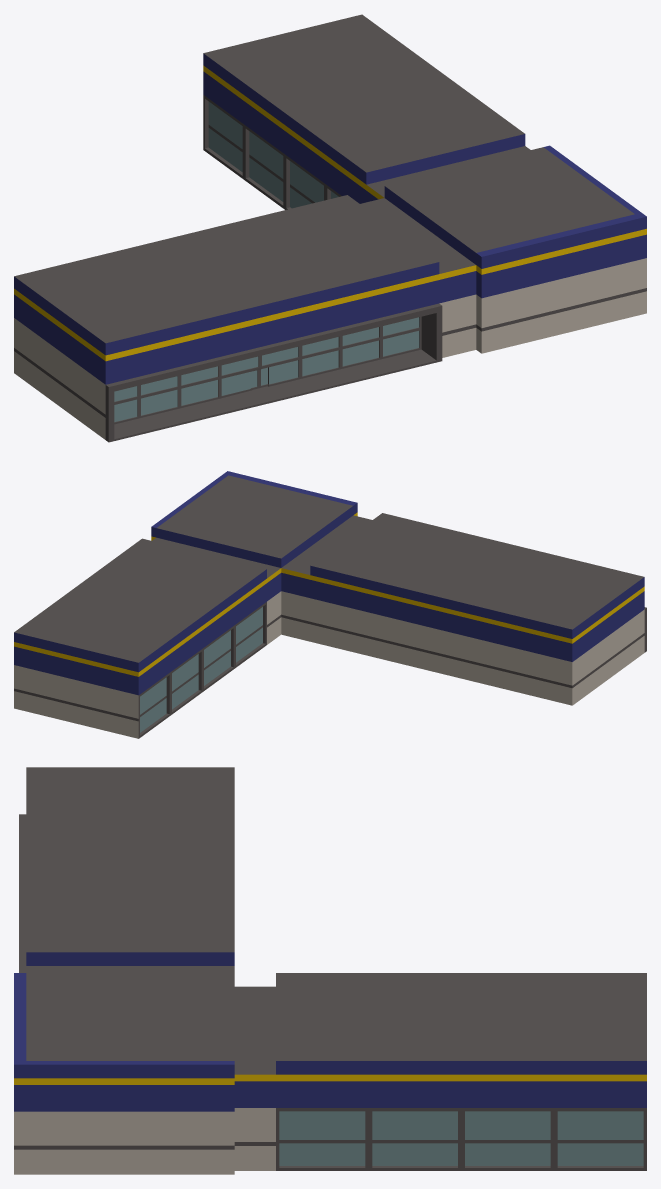
Rendered from Depot_Resturant_S1.fbx.
3 views of the same model, one above another, from view 1: azimuth 30°, elevation 25°; view 2: azimuth 150°, elevation 25°; view 3: azimuth 270°, elevation 25° (orthographic). The views are drawn at different scales.
Parts seen in each view (by area): view 1: Depot_Resturant; view 2: Depot_Resturant; view 3: Depot_Resturant.
Boxes of the visible parts, x1=… form: Depot_Resturant: x1=14, y1=14, x2=646, y2=442; Depot_Resturant: x1=14, y1=471, x2=646, y2=738; Depot_Resturant: x1=14, y1=767, x2=646, y2=1174.
Bounding box in the file's own units: 8099 × 1398 × 7285.
